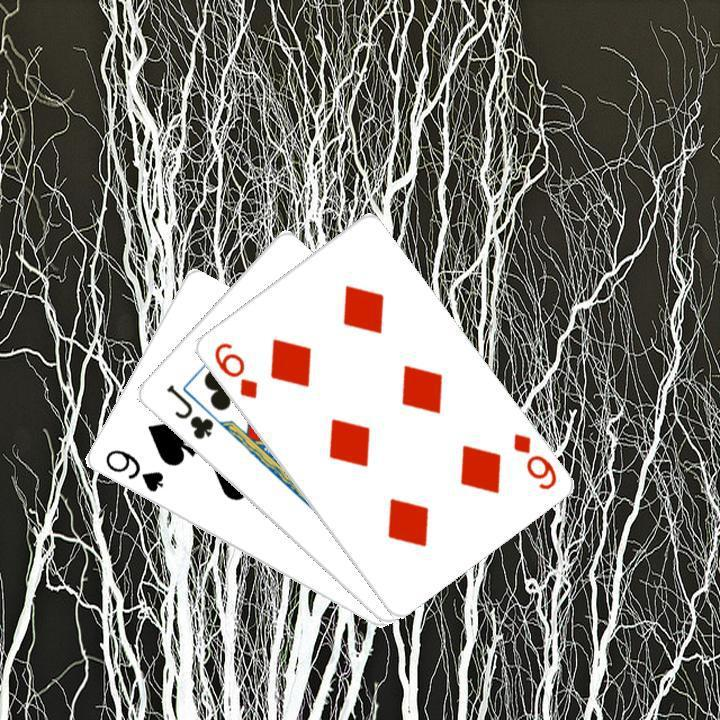6: (507, 428, 559, 492), (209, 338, 259, 401)
9: (100, 445, 165, 495)
J: (161, 380, 216, 442)
